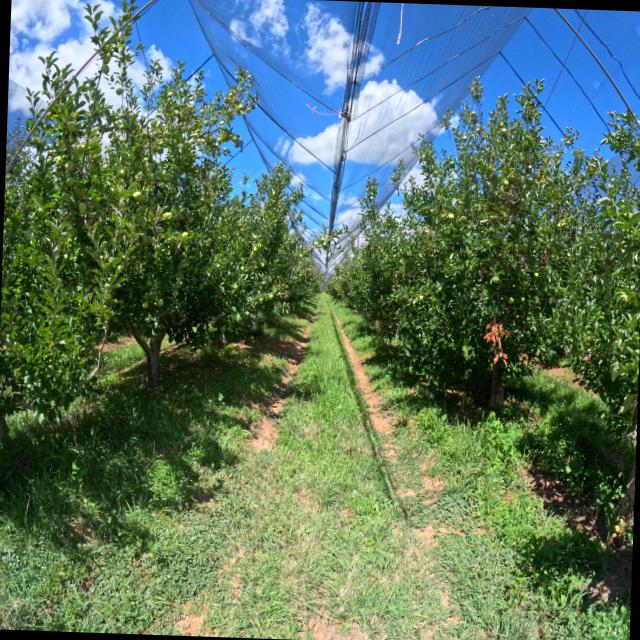-FireBlight-: (483, 321, 511, 366)
